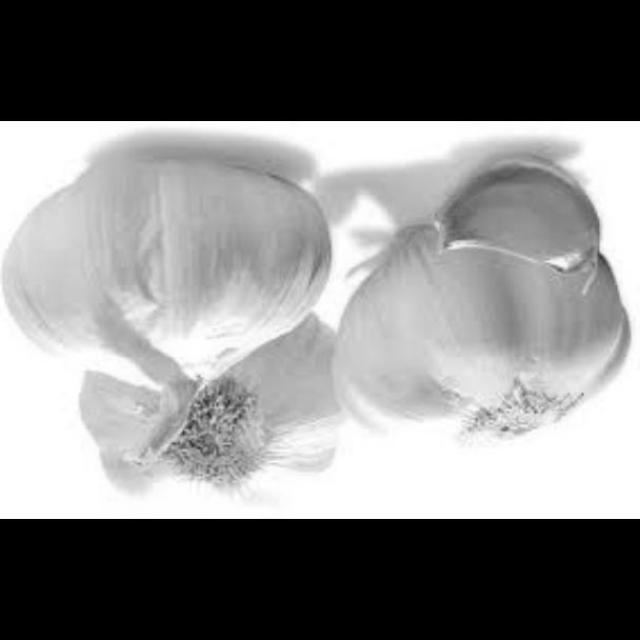garlic: (1, 141, 338, 413), (321, 198, 633, 463), (55, 322, 356, 520), (419, 156, 606, 274)
